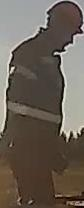helmet: (46, 1, 84, 35)
vest: (6, 44, 64, 162)
